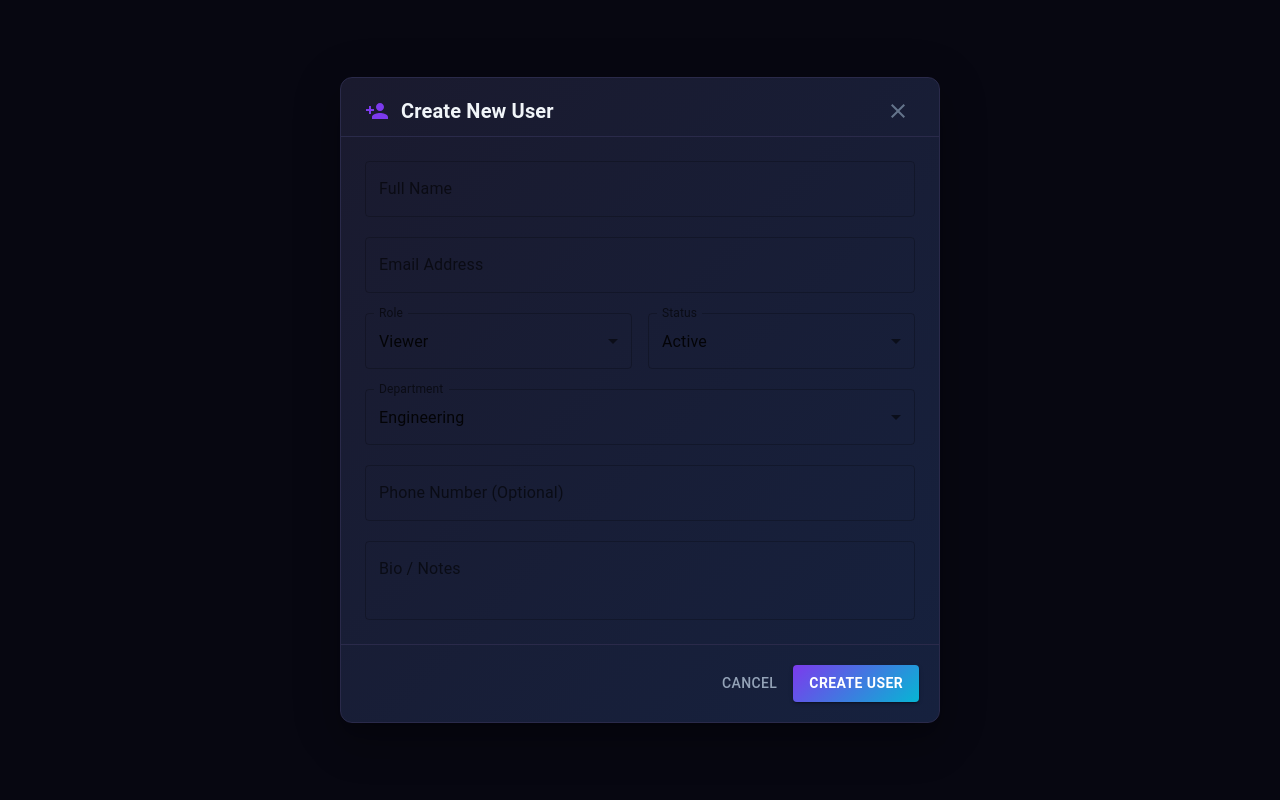
UserModal Form Validation & Pre-fill › validates required fields on submission of empty Add form
The width and height of the screenshot is (1280, 800).
Click the button "Create User" at (856, 684), box [793,665,919,702]
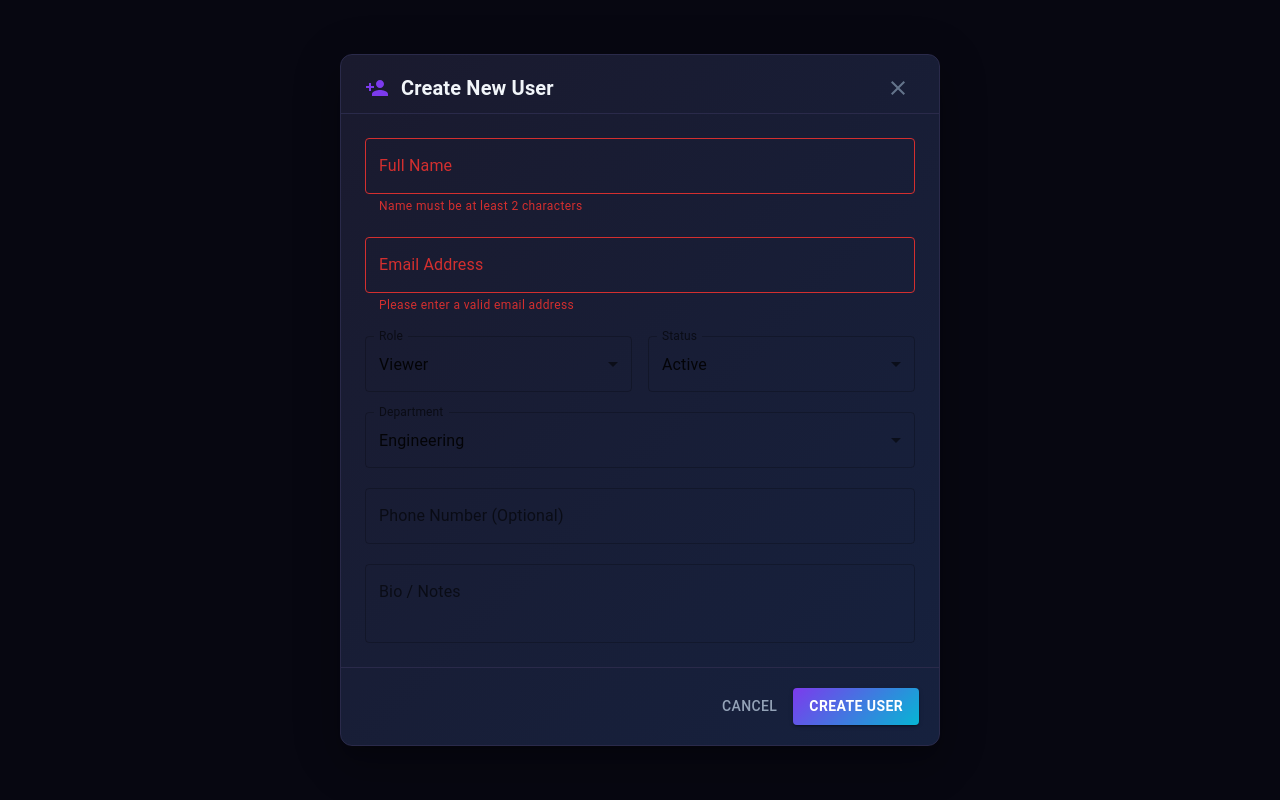
Now the text "Name must be at least 2 characters" is shown, box [379,199,582,213]
Now the text "Please enter a valid email address" is shown, box [379,298,574,312]
